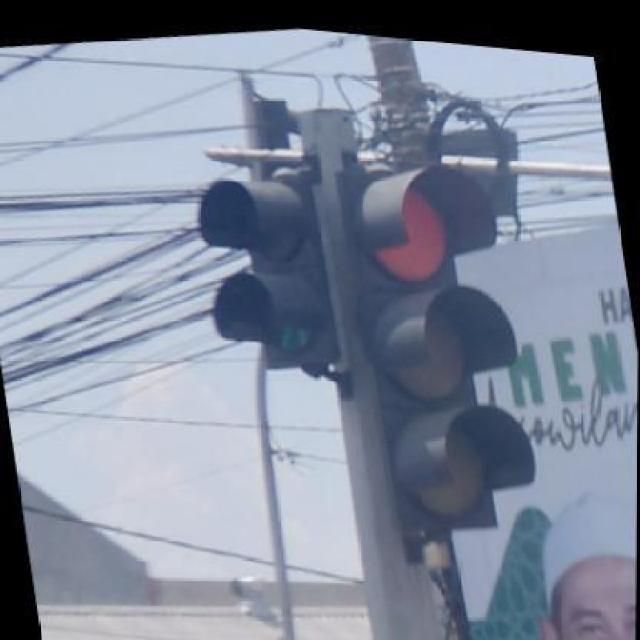Traffic Light -Red-: (323, 143, 534, 539)
